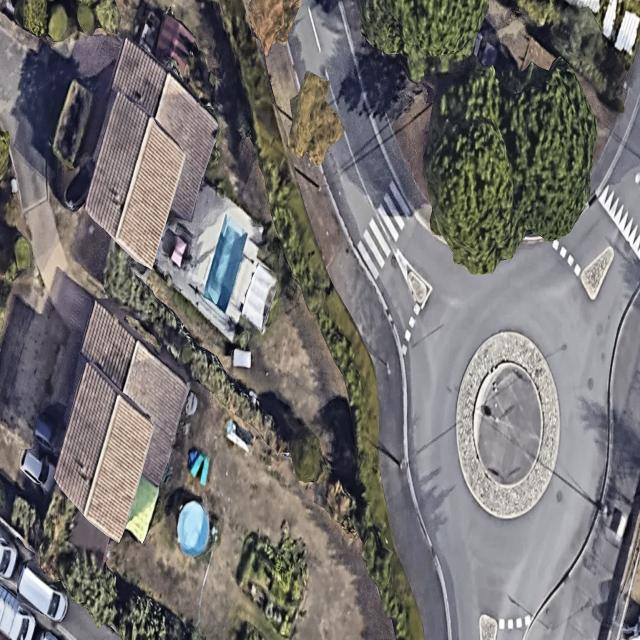maison: (34, 300, 204, 547), (63, 37, 236, 275)
